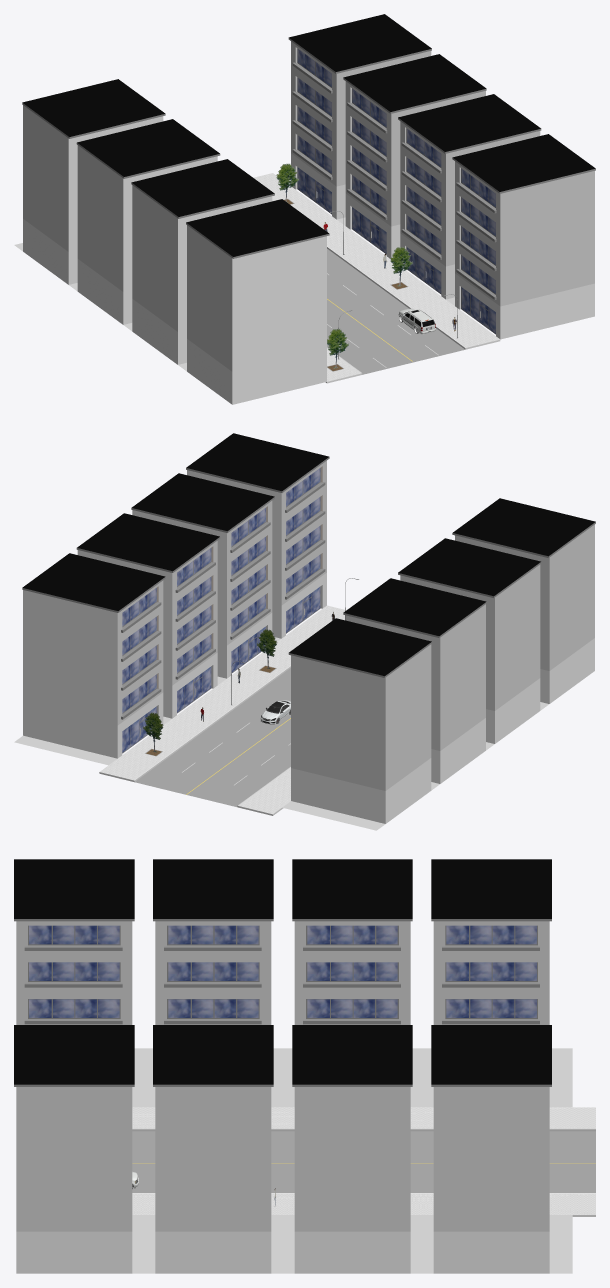
The picture shows the model from 3 angles, top to bottom: view 1: azimuth 30°, elevation 25°; view 2: azimuth 150°, elevation 25°; view 3: azimuth 270°, elevation 25°; orthographic projection. The views are drawn at different scales.
Visible parts, largest first — view 1: Geom3D (×27), Geom3D_ (×7); view 2: Geom3D (×27), Geom3D_ (×7); view 3: Geom3D (×23), Geom3D_ (×7).
Boxes of the visible parts, x1,y1,x2,y2 form: Geom3D (×27): [22, 14, 595, 404]; Geom3D_ (×7): [14, 41, 540, 371]; Geom3D (×27): [22, 433, 595, 823]; Geom3D_ (×7): [14, 501, 594, 830]; Geom3D (×23): [14, 859, 595, 1273]; Geom3D_ (×7): [16, 921, 572, 1273].
Size of the model in its own units: 46 by 18.2 by 50.2.
Materials: 145 (38 with a texture image).
